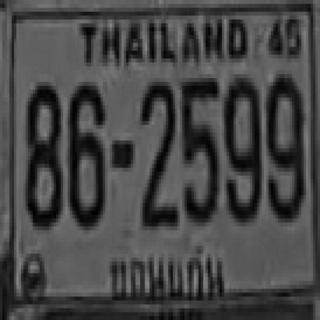N02: (140, 78, 175, 226)
N05: (180, 76, 217, 220)
N06: (68, 80, 103, 224)
N08: (23, 82, 61, 226)
N09: (264, 70, 301, 219), (222, 74, 259, 218)
P18: (104, 235, 233, 311)
